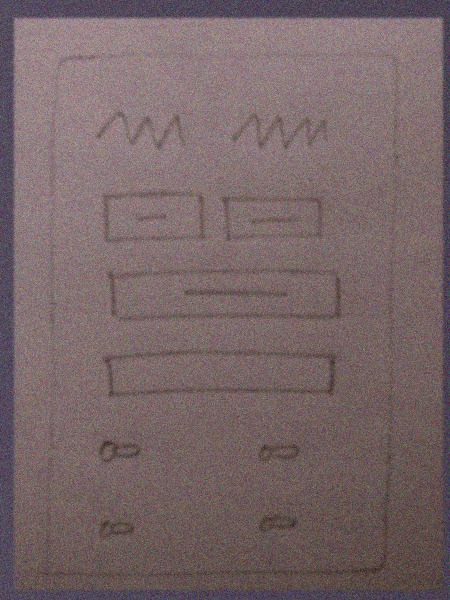button: (96, 263, 355, 325), (91, 185, 214, 248), (218, 188, 330, 244)
switch: (244, 505, 328, 542), (88, 427, 149, 472), (245, 432, 313, 472), (84, 510, 154, 547)
text: (225, 103, 341, 159), (87, 102, 198, 154)
text_input: (99, 342, 346, 403)
